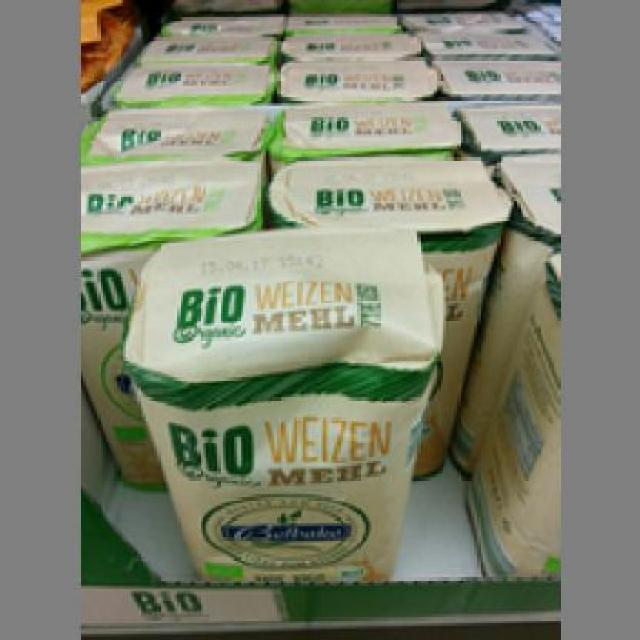Flour: (120, 223, 437, 580)
